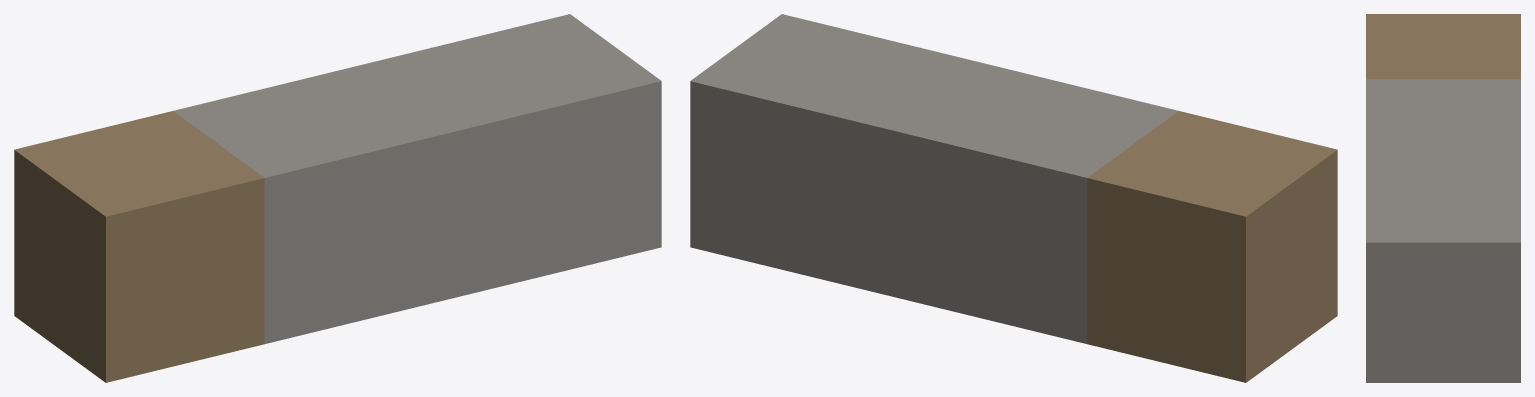
Rendered from cuchillo_cocina_01.glb.
The picture shows the model from 3 angles, left to right: view 1: azimuth 30°, elevation 25°; view 2: azimuth 150°, elevation 25°; view 3: azimuth 270°, elevation 25°; orthographic projection. The views are drawn at different scales.
Parts seen in each view (by area): view 1: cuchillo_cocina; view 2: cuchillo_cocina; view 3: cuchillo_cocina.
Part boxes in pixels (x1,y1,x2,y2): cuchillo_cocina: (14, 14, 661, 382); cuchillo_cocina: (690, 14, 1337, 382); cuchillo_cocina: (1366, 14, 1520, 382).
Bounding box in the file's own units: 0.7 × 0.2 × 0.2.
